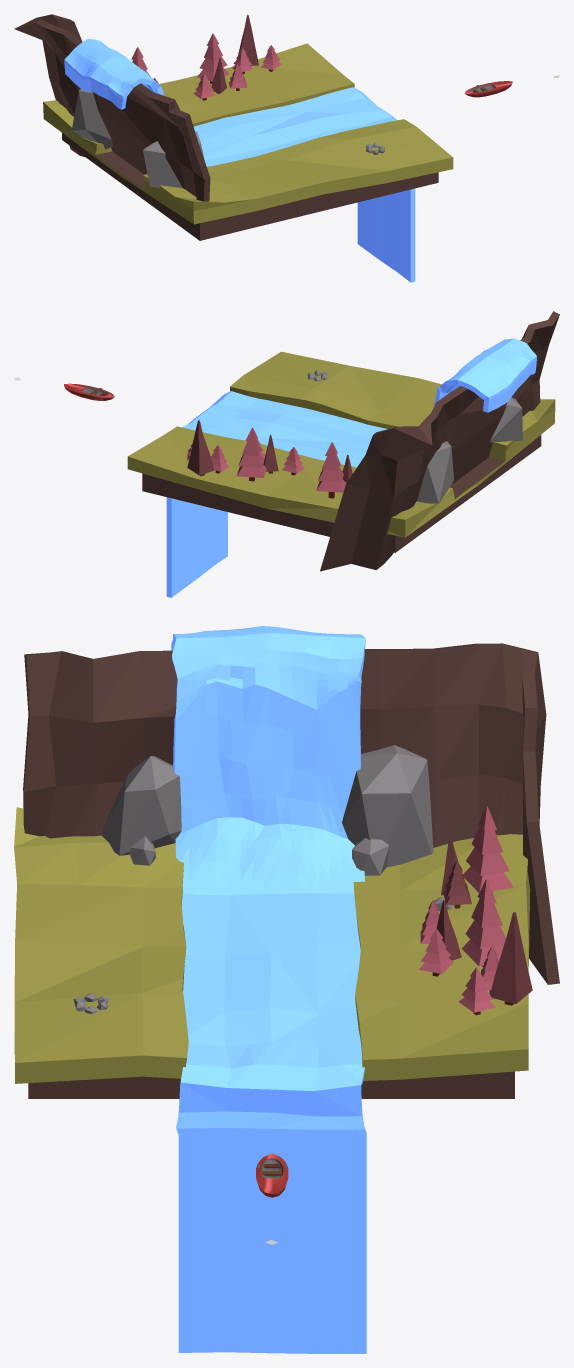
File: waterfallV3.glb
3 renders of one model, top to bottom at view 1: azimuth 30°, elevation 25°; view 2: azimuth 150°, elevation 25°; view 3: azimuth 270°, elevation 25°, orthographic. The views are drawn at different scales.
Visible parts, largest first — view 1: Flor, River, Cliff, Roc 2.001, Roc 2, Arbre 2.008, Arbre 1.002, Boat; view 2: Flor, River, Cliff, Roc 2.001, Roc 2, Arbre 2.007, Arbre 2.008, Arbre 1.002, Boat, Arbre 2; view 3: River, Flor, Cliff, Roc 2.001, Roc 2, Arbre 2.007, Arbre 1.002, Arbre 2.008, Roc, Boat, Arbre 2.006, Arbre 2.002.
Part boxes in pixels (box(x1,y1,x2,y2)): Flor: box(43, 43, 453, 240); River: box(64, 38, 415, 282); Cliff: box(14, 14, 210, 201); Roc 2.001: box(71, 88, 113, 149); Roc 2: box(143, 131, 204, 188); Arbre 2.008: box(197, 33, 229, 83); Arbre 1.002: box(238, 15, 258, 66); Boat: box(464, 81, 512, 97); Flor: box(127, 351, 555, 552); River: box(166, 338, 536, 597); Cliff: box(320, 311, 559, 571); Roc 2.001: box(417, 441, 453, 503); Roc 2: box(490, 397, 522, 442); Arbre 2.007: box(316, 442, 346, 498); Arbre 2.008: box(237, 427, 266, 481); Arbre 1.002: box(187, 420, 214, 476); Boat: box(64, 383, 114, 400); Arbre 2: box(282, 447, 304, 475); River: box(171, 626, 366, 1353); Flor: box(14, 807, 530, 1098); Cliff: box(23, 643, 559, 984); Roc 2.001: box(342, 745, 433, 867); Roc 2: box(101, 756, 181, 855); Arbre 2.007: box(463, 806, 513, 892); Arbre 1.002: box(490, 912, 532, 1005); Arbre 2.008: box(462, 879, 506, 967); Roc: box(352, 838, 389, 875); Boat: box(256, 1153, 288, 1197); Arbre 2.006: box(458, 967, 495, 1015); Arbre 2.002: box(418, 928, 453, 976).
Bounding box in the file's own units: 15.45 × 8.55 × 8.75.
Materials: 18 (1 with a texture image).
